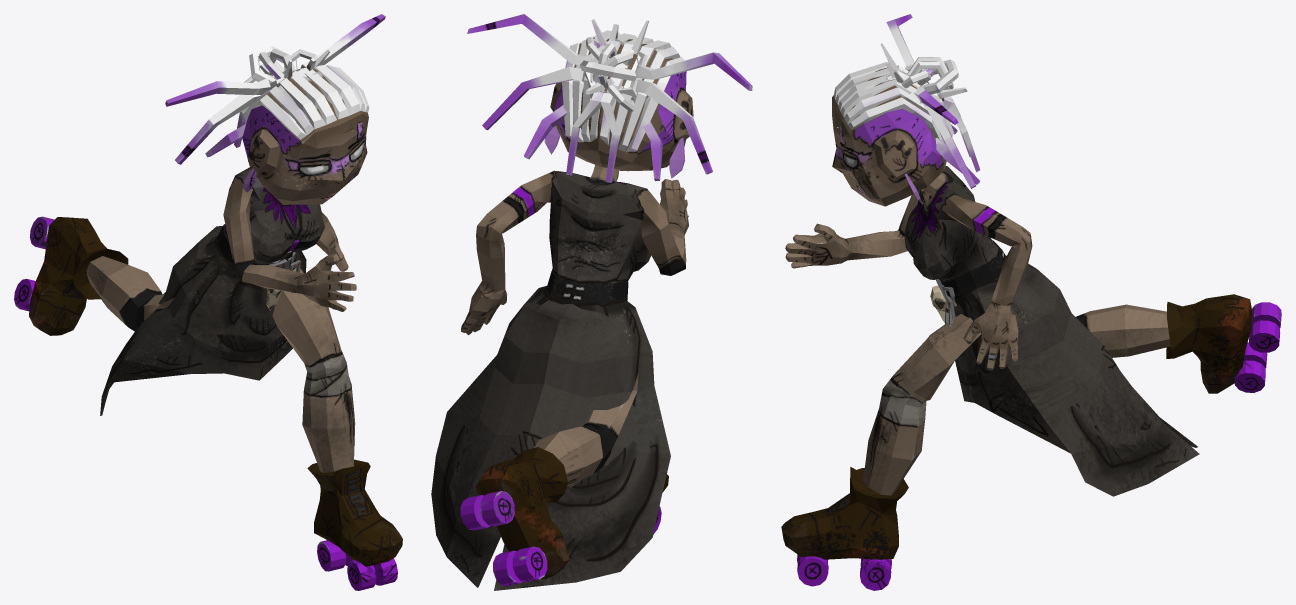
Rendered from bruja_000003.obj.
3 renders of one model, left to right at view 1: azimuth 30°, elevation 25°; view 2: azimuth 150°, elevation 25°; view 3: azimuth 270°, elevation 25°, orthographic. The views are drawn at different scales.
Visible parts, largest first — view 1: Bruja_Plane.001; view 2: Bruja_Plane.001; view 3: Bruja_Plane.001.
Part boxes in pixels (x1,y1,x2,y2): Bruja_Plane.001: (14, 14, 402, 590); Bruja_Plane.001: (431, 14, 752, 590); Bruja_Plane.001: (781, 14, 1281, 590).
Size of the model in its own units: 7.37 by 15.02 by 13.22.
